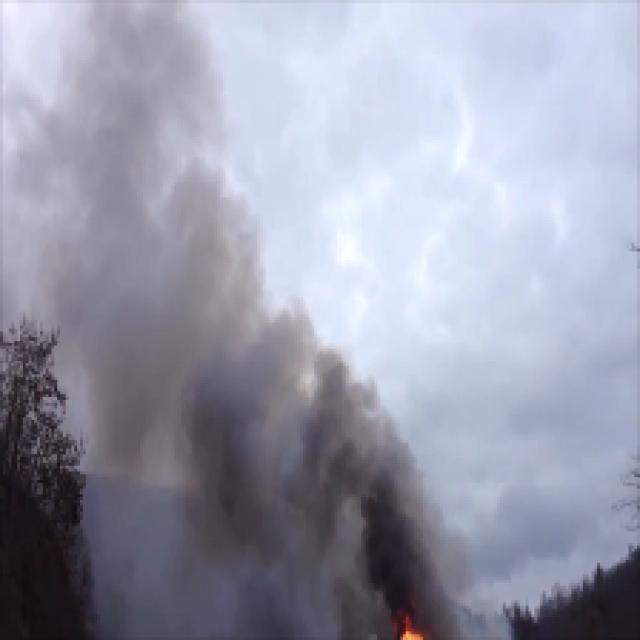smoke: (216, 391, 354, 520), (360, 473, 426, 627)
